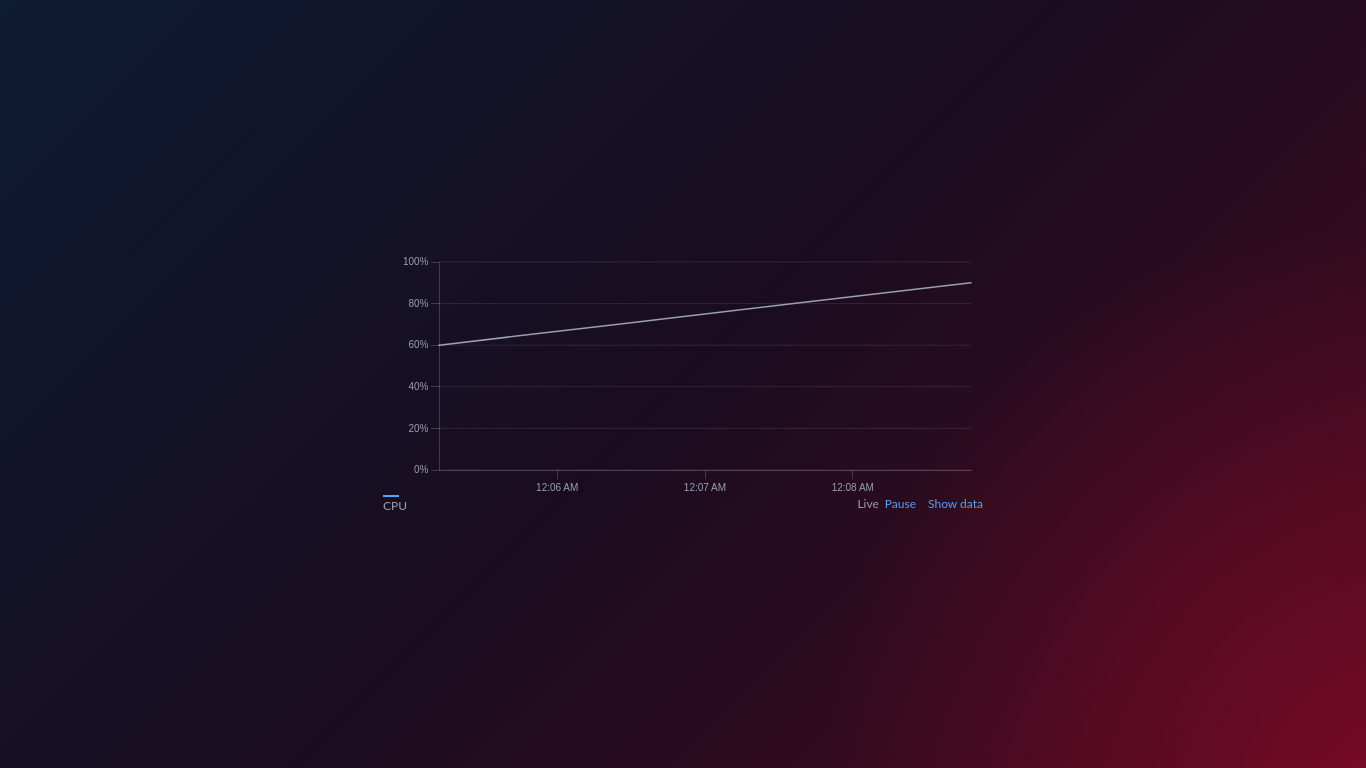
Test: live mode › pauses on hover, shows Paused/Resume after zoom, resumes
Hover over the picture named "L".
mouse_move(683, 374)  # box [383,254,983,494]
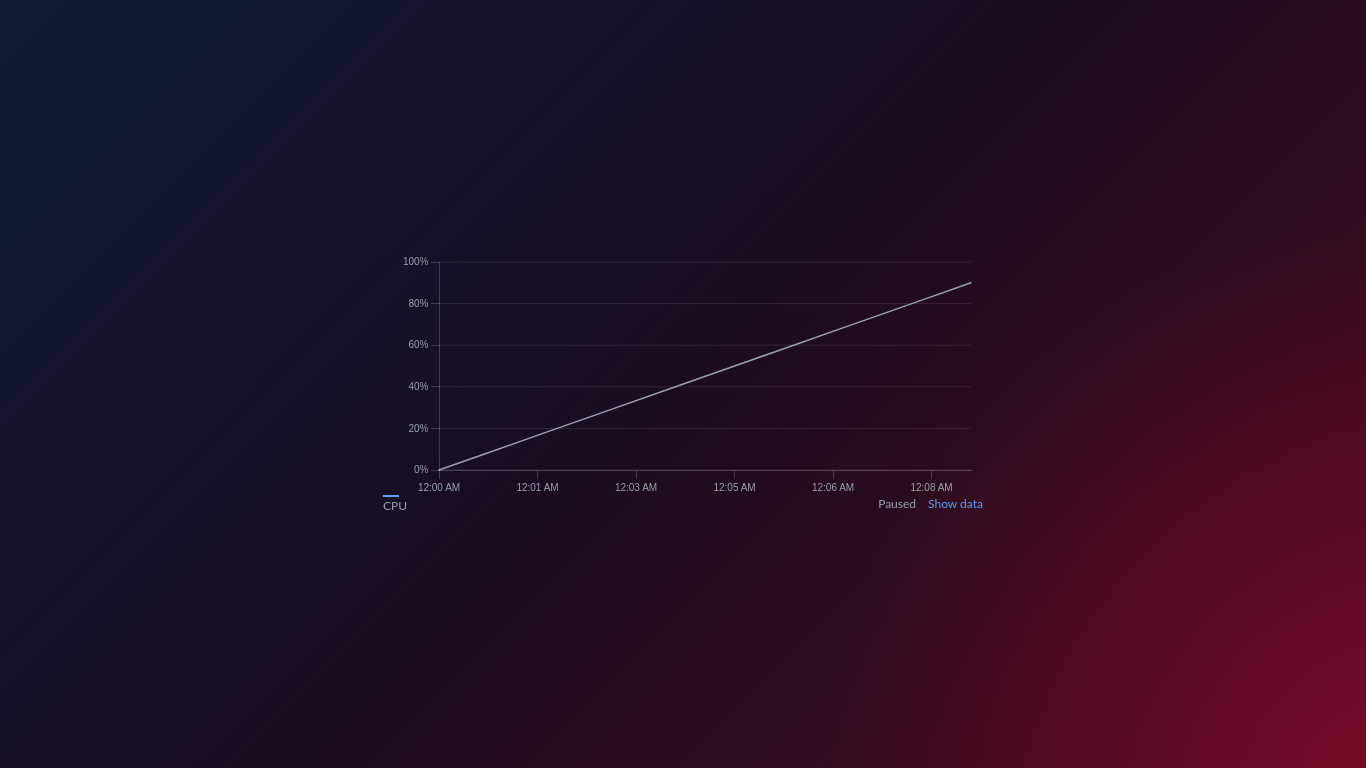
Move the pointer off the picture named "L", box [383,254,983,494]
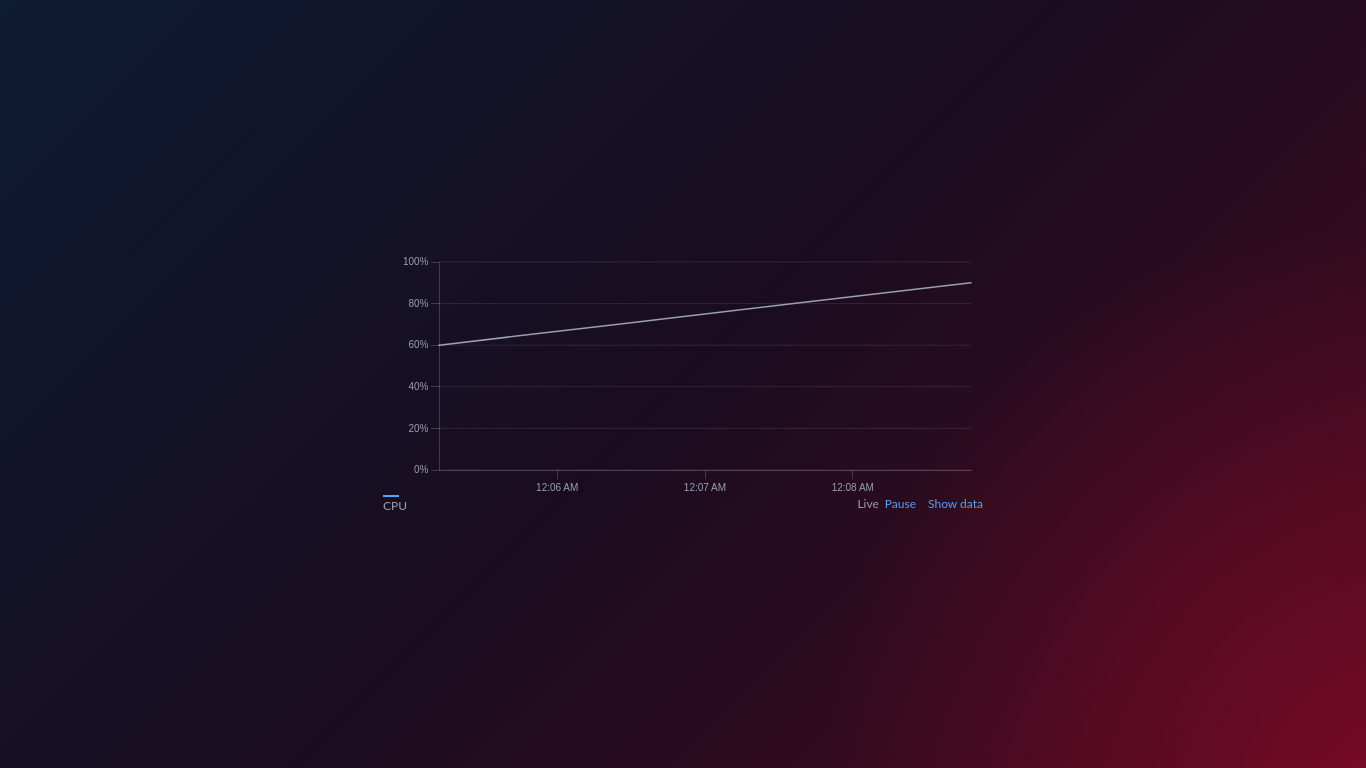
Press + in the picture named "L", box [383,254,983,494]
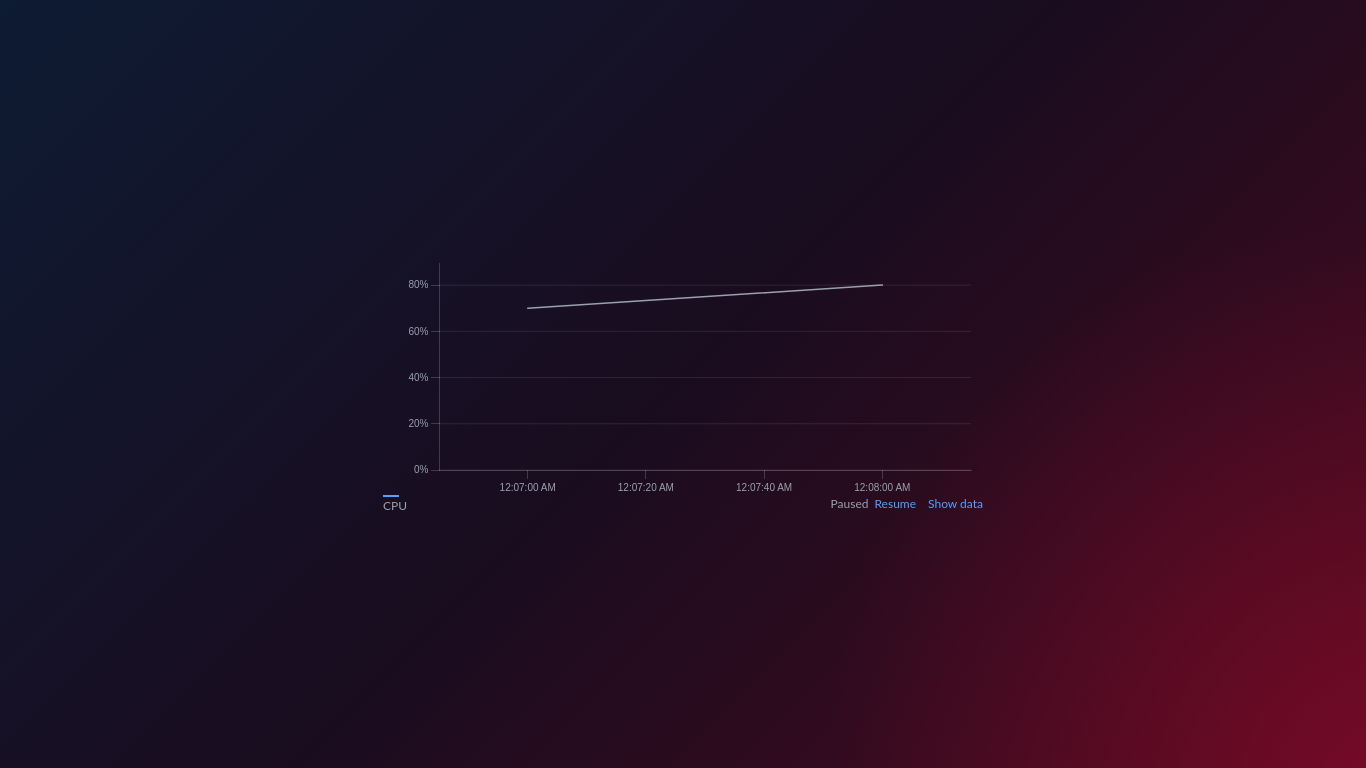
Click the button "Resume".
click(895, 504)  # box [874,496,916,512]
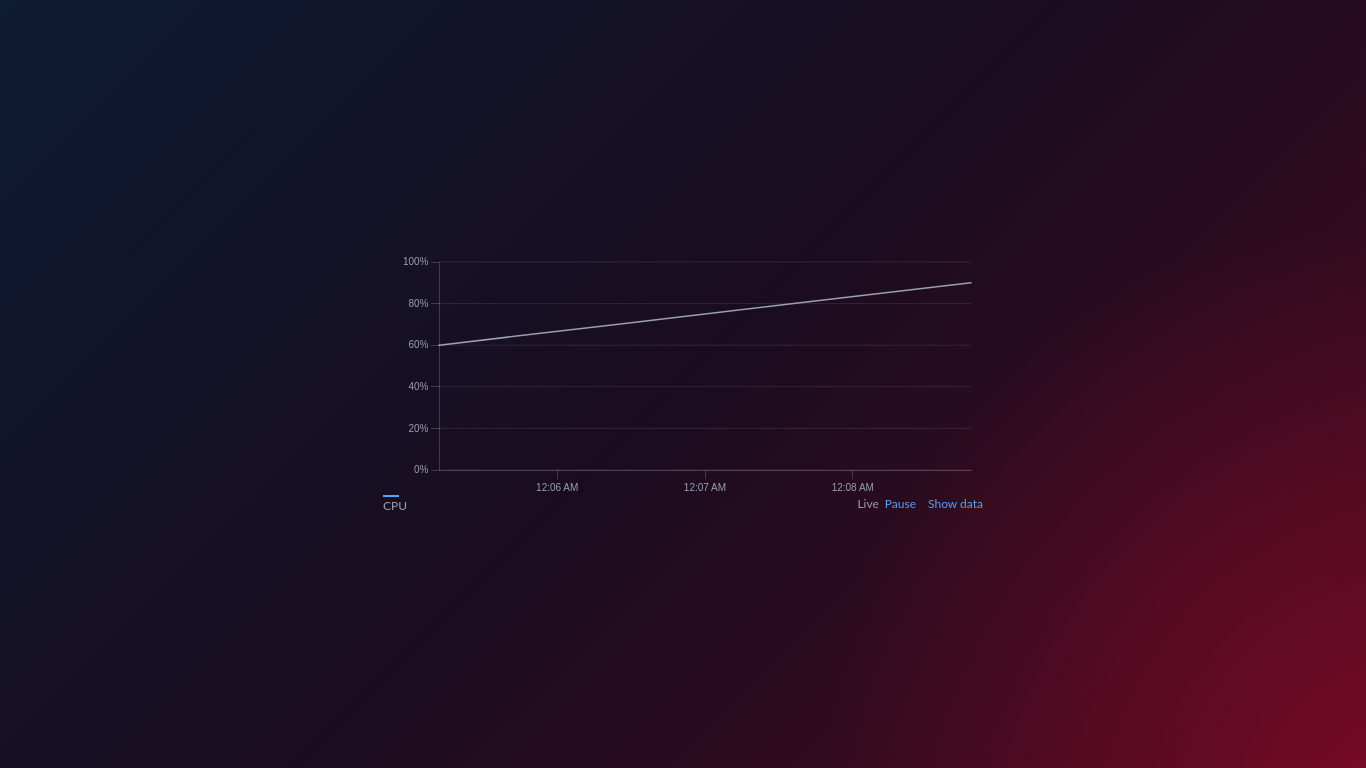
Click the button "Pause".
click(900, 504)  # box [885,496,916,512]
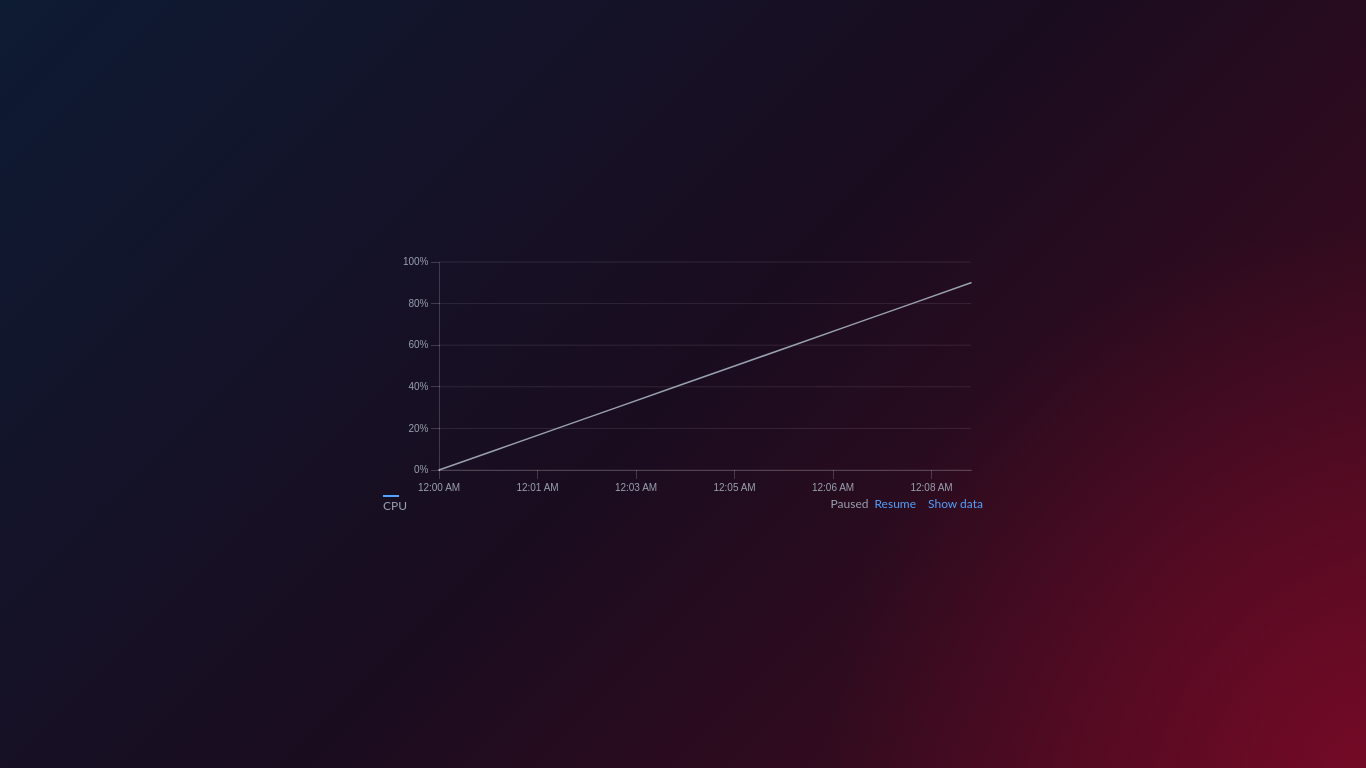
Check: the text "Paused" is shown, box [831,496,868,511]
